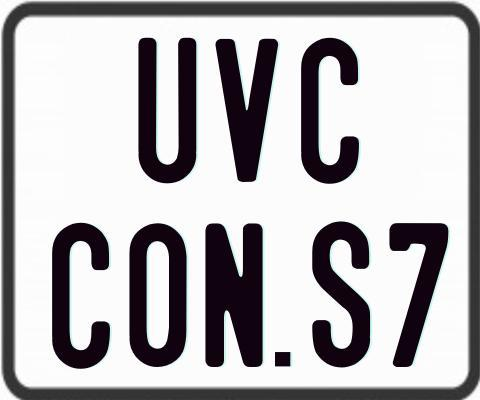0: (128, 222, 187, 371)
7: (387, 222, 452, 369)
C: (299, 37, 362, 187), (49, 220, 107, 366)
N: (203, 220, 262, 368)
S: (310, 219, 374, 367)
U: (135, 38, 195, 184)
V: (215, 37, 282, 186)
